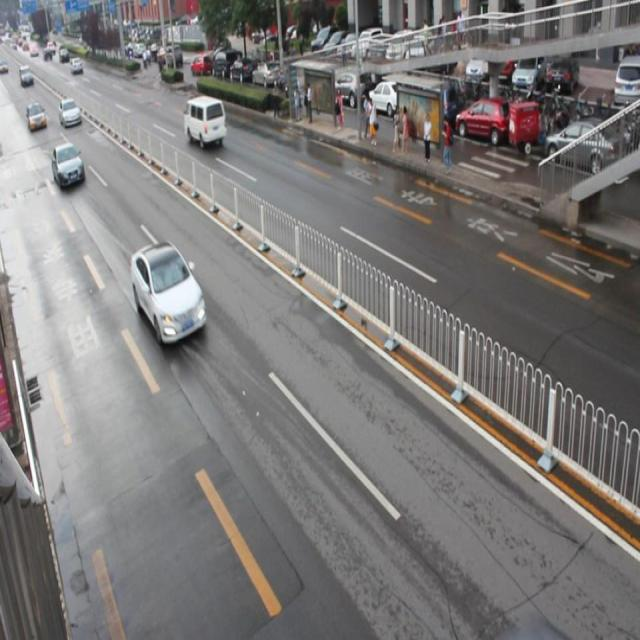car: (132, 240, 207, 342), (53, 142, 86, 190)
truck: (184, 96, 227, 146)
